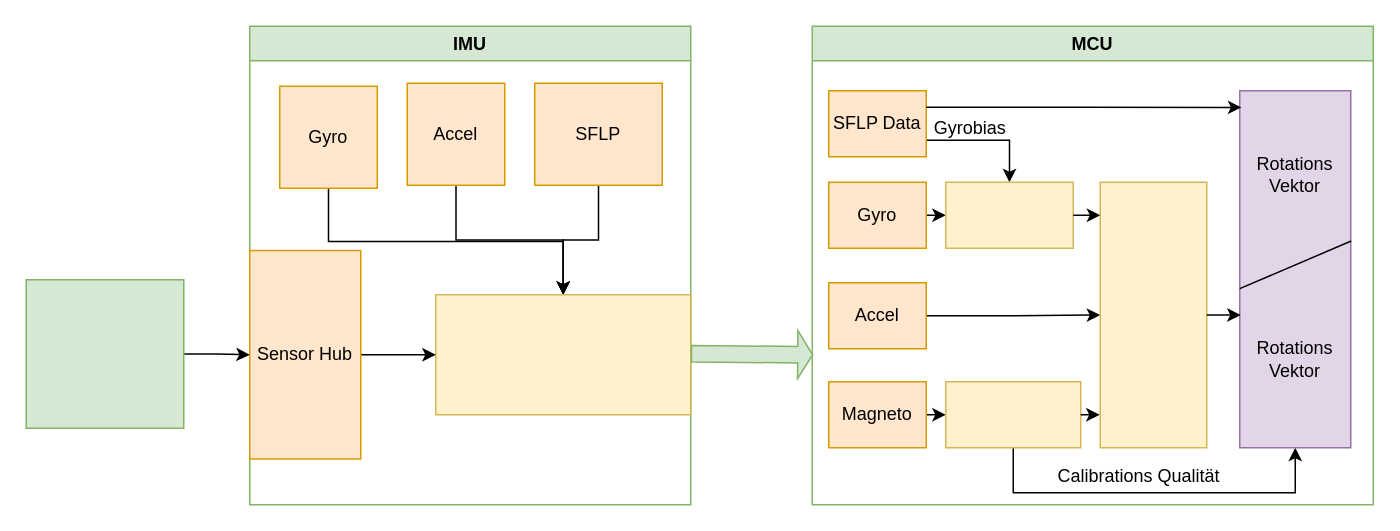
Image size: 1400x531. Some labels were removed from this diagram. Here are the shapes that lost their labels. From the top down, the centre of each, then its label:
point (1008, 214): Gyrobias Subtraction
point (1153, 314): MotionFX
point (104, 353): Magnetometer
point (562, 354): FIFO
point (1012, 414): MotionMC
